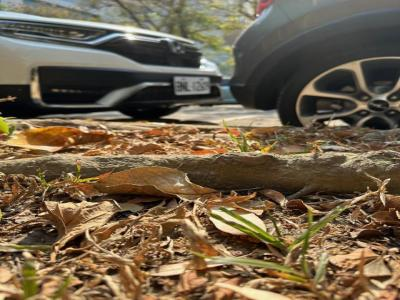Root: (0, 150, 399, 196)
